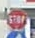stop: (6, 8, 27, 29)
